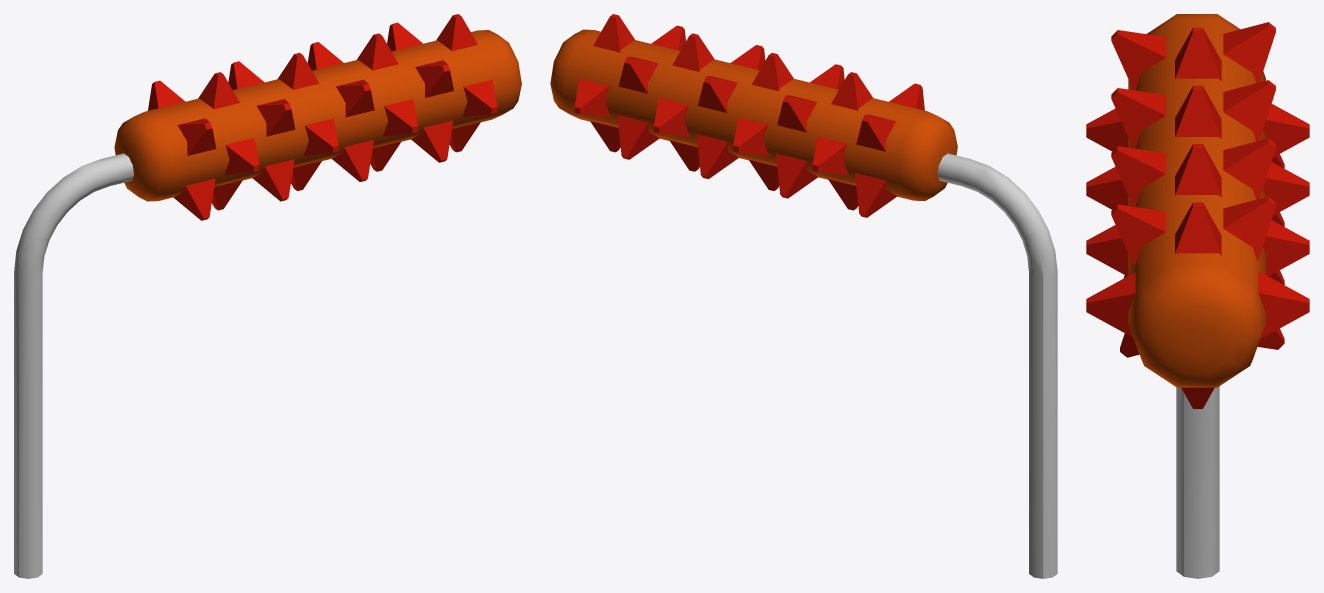
The model's file is barrier3.fbx.
3 views of the same model, side by side, from view 1: azimuth 30°, elevation 25°; view 2: azimuth 150°, elevation 25°; view 3: azimuth 270°, elevation 25° (orthographic). The views are drawn at different scales.
Visible parts, largest first — view 1: Cylinder.010, Line002; view 2: Cylinder.010, Line002; view 3: Cylinder.010, Line002.
Part boxes in pixels (x1,y1,x2,y2): Cylinder.010: (114, 14, 521, 220); Line002: (14, 153, 133, 578); Cylinder.010: (550, 14, 957, 217); Line002: (937, 153, 1057, 578); Cylinder.010: (1086, 14, 1309, 408); Line002: (1176, 386, 1219, 578).
Size of the model in its own units: 703 by 617 by 184.
